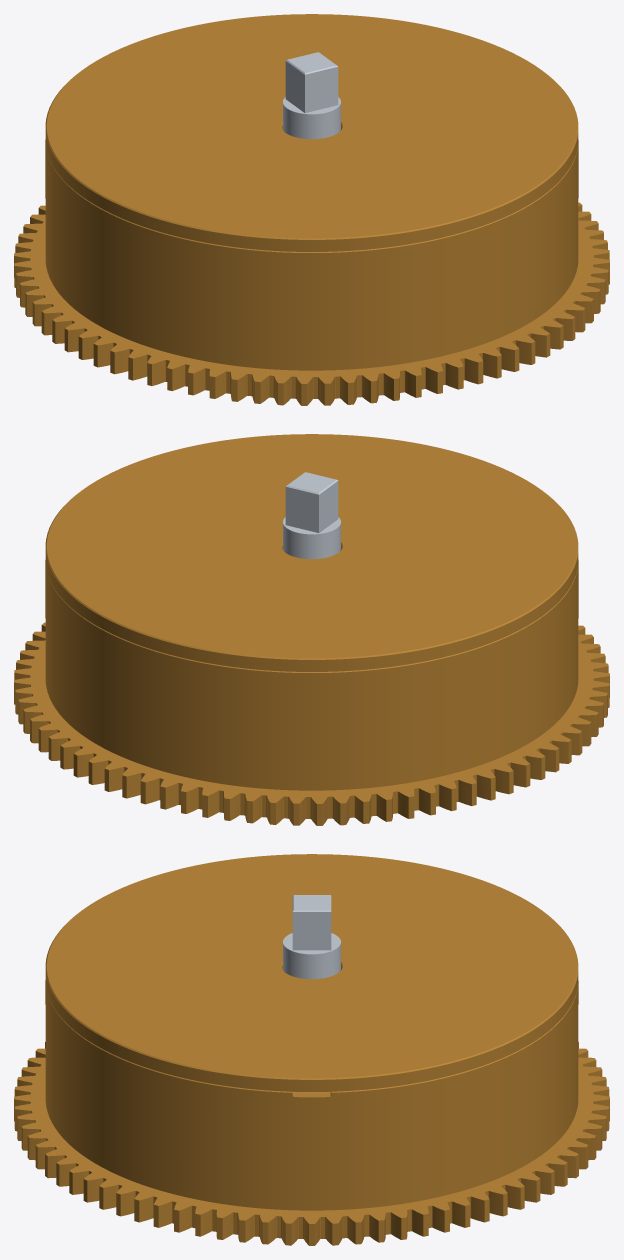
File: bariletto_orologio_meccanico.main_design.glb
3 renders of one model, top to bottom at view 1: azimuth 30°, elevation 25°; view 2: azimuth 150°, elevation 25°; view 3: azimuth 270°, elevation 25°, orthographic.
Visible parts, largest first — view 1: coperchio piano con risalto a scatto — ottone, tamburo con tacca molla e gola coperchio — ottone, corona — 80 denti, m0.15, 20°, albero con quadro e dente di fermo — acciaio; view 2: coperchio piano con risalto a scatto — ottone, tamburo con tacca molla e gola coperchio — ottone, corona — 80 denti, m0.15, 20°, albero con quadro e dente di fermo — acciaio; view 3: coperchio piano con risalto a scatto — ottone, tamburo con tacca molla e gola coperchio — ottone, corona — 80 denti, m0.15, 20°, albero con quadro e dente di fermo — acciaio.
Part boxes in pixels (x1=…): coperchio piano con risalto a scatto — ottone: x1=45, y1=14, x2=578, y2=251; tamburo con tacca molla e gola coperchio — ottone: x1=45, y1=140, x2=578, y2=370; corona — 80 denti, m0.15, 20°: x1=14, y1=202, x2=609, y2=405; albero con quadro e dente di fermo — acciaio: x1=283, y1=52, x2=340, y2=139; coperchio piano con risalto a scatto — ottone: x1=45, y1=434, x2=578, y2=671; tamburo con tacca molla e gola coperchio — ottone: x1=45, y1=560, x2=578, y2=790; corona — 80 denti, m0.15, 20°: x1=14, y1=622, x2=609, y2=825; albero con quadro e dente di fermo — acciaio: x1=283, y1=472, x2=340, y2=559; coperchio piano con risalto a scatto — ottone: x1=45, y1=854, x2=578, y2=1091; tamburo con tacca molla e gola coperchio — ottone: x1=45, y1=980, x2=578, y2=1210; corona — 80 denti, m0.15, 20°: x1=14, y1=1042, x2=609, y2=1245; albero con quadro e dente di fermo — acciaio: x1=283, y1=895, x2=340, y2=979.
Bounding box in the file's own units: 12.3 × 5.75 × 12.3.
